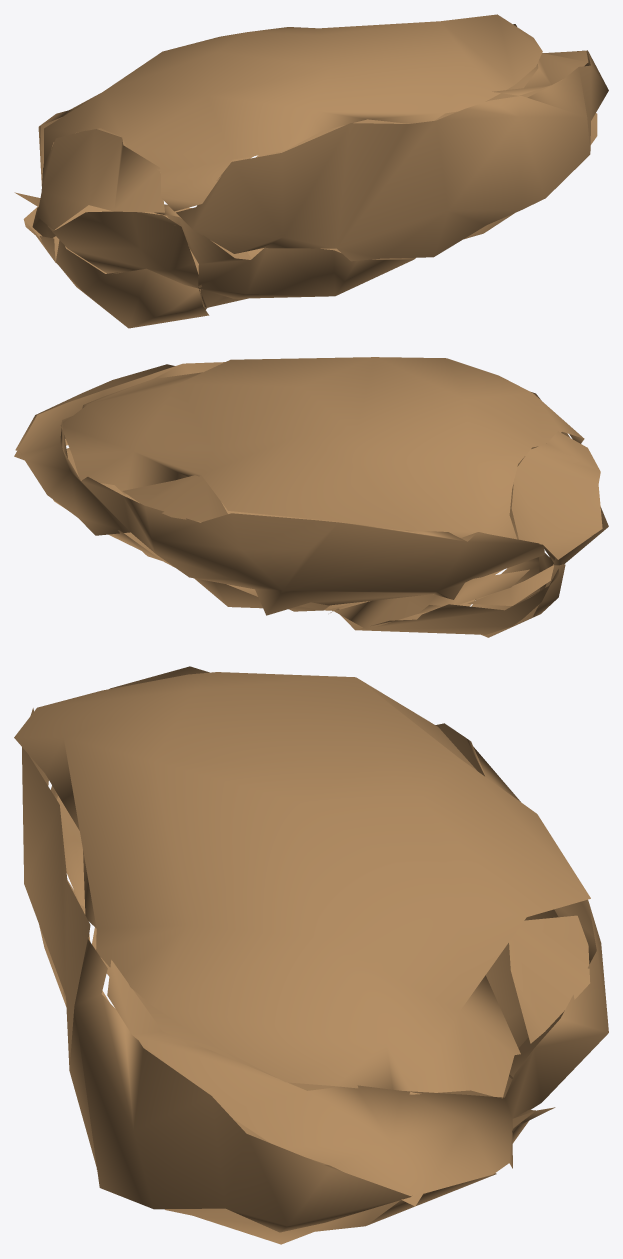
Rendered from rock-sandstone-lod1.glb.
The picture shows the model from 3 angles, top to bottom: view 1: azimuth 30°, elevation 25°; view 2: azimuth 150°, elevation 25°; view 3: azimuth 270°, elevation 25°; orthographic projection. The views are drawn at different scales.
Parts seen in each view (by area): view 1: rock-sandstone.001; view 2: rock-sandstone.001; view 3: rock-sandstone.001.
Part boxes in pixels (box(x1,y1,x2,y2)): rock-sandstone.001: box(14, 14, 608, 328); rock-sandstone.001: box(14, 357, 608, 637); rock-sandstone.001: box(14, 666, 608, 1244).
Bounding box in the file's own units: 5.73 × 2.2 × 3.11.
